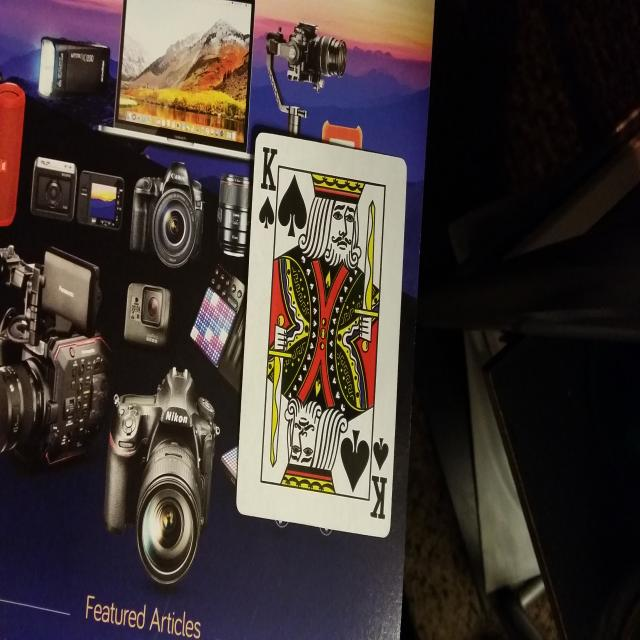Ks: (257, 138, 281, 240), (370, 433, 389, 526)
